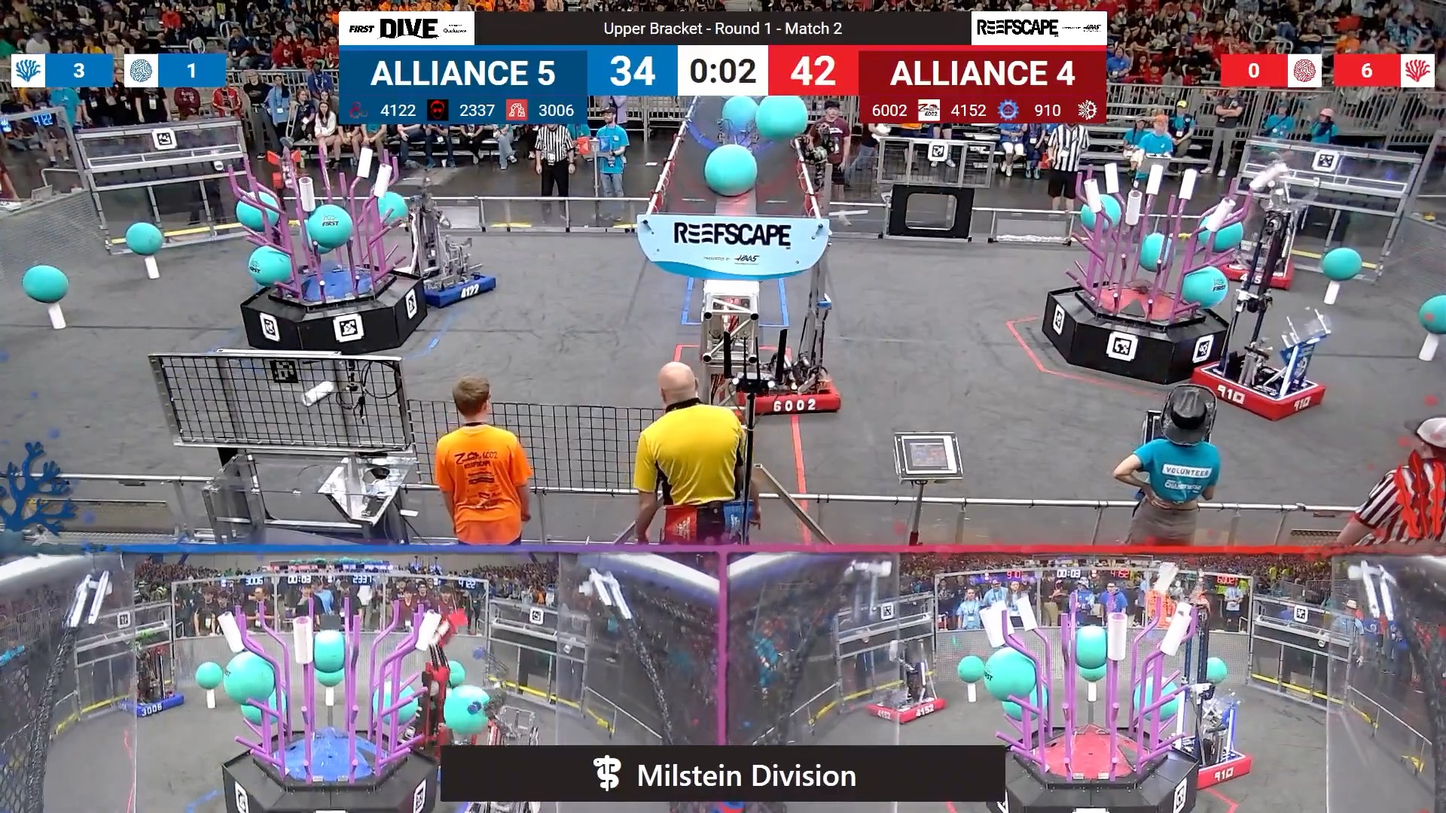bumpers: (1187, 369, 1331, 423), (737, 364, 847, 418), (395, 260, 504, 309), (1167, 744, 1256, 792), (862, 690, 949, 723), (1216, 262, 1301, 289), (115, 689, 189, 720)
